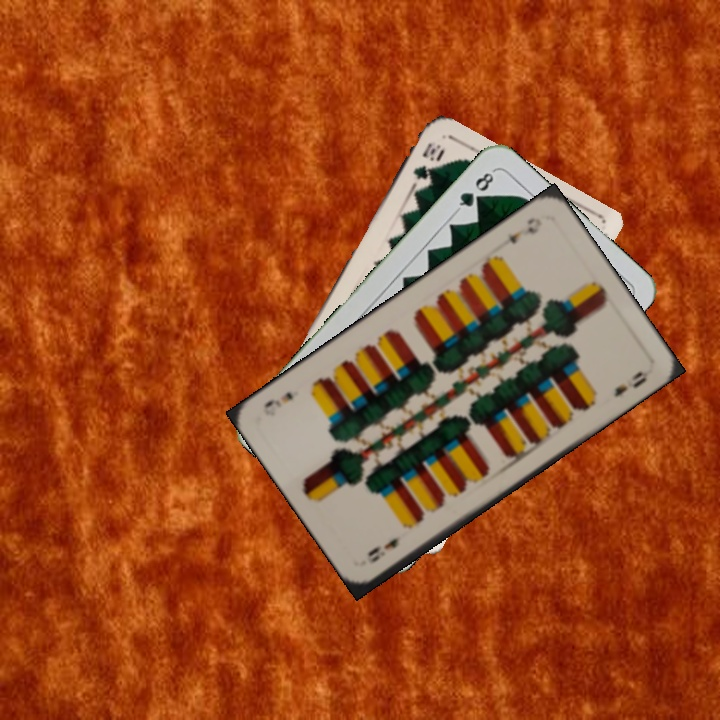E9: (504, 213, 544, 247), (363, 533, 401, 566)
G10: (409, 138, 446, 183)
G8: (453, 166, 497, 214)
